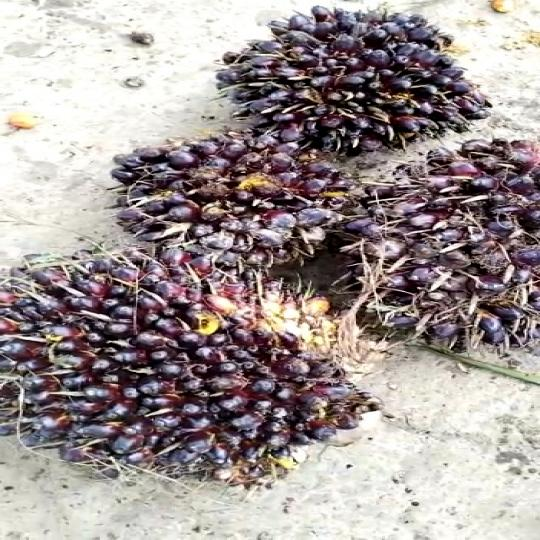kurang masak: (0, 264, 396, 493), (346, 138, 540, 350), (228, 10, 491, 148), (109, 134, 352, 266)
